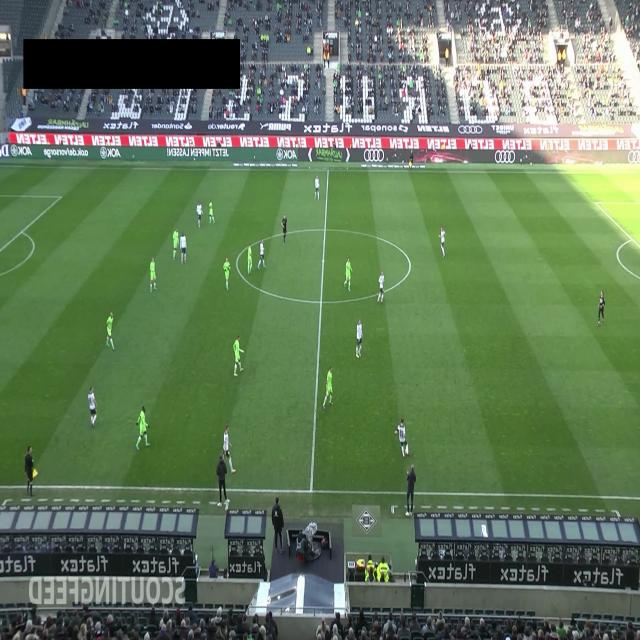ball: (405, 448, 409, 456)
player: (223, 424, 236, 474), (136, 405, 150, 450), (395, 417, 409, 459), (232, 334, 244, 376), (322, 365, 333, 410), (105, 311, 115, 350), (88, 385, 97, 428), (596, 290, 606, 326), (344, 257, 354, 291), (257, 238, 267, 270), (356, 317, 363, 359), (150, 256, 158, 292), (377, 270, 385, 304), (223, 257, 231, 291), (180, 231, 187, 264), (439, 225, 446, 258), (172, 228, 179, 260), (195, 199, 202, 228), (208, 200, 216, 224), (247, 243, 253, 274), (314, 174, 320, 200)
referee: (24, 446, 38, 496), (281, 214, 287, 244), (409, 150, 413, 168)
